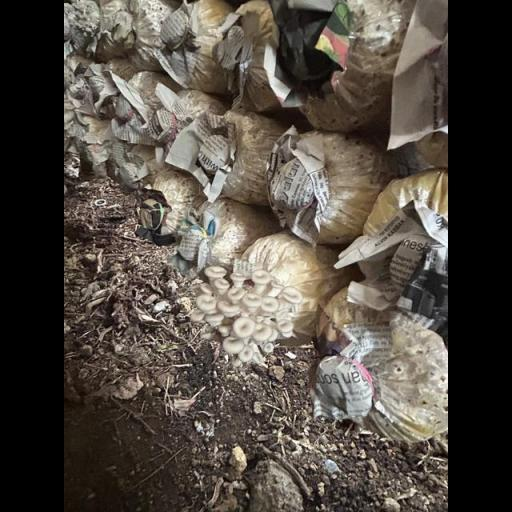White Oyster Mushroom: (185, 261, 306, 367)
